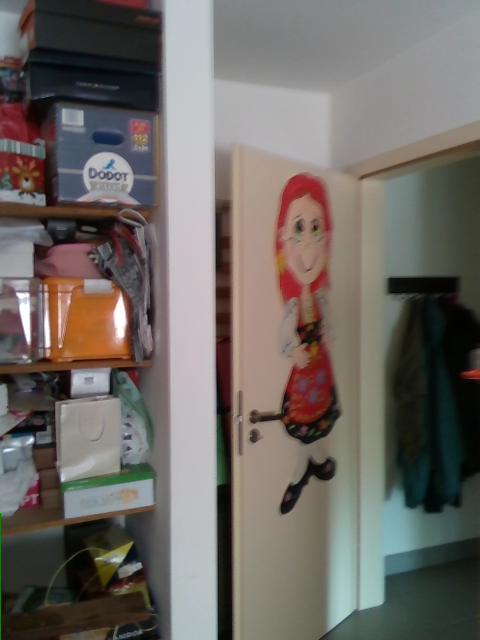door: (232, 144, 355, 640)
